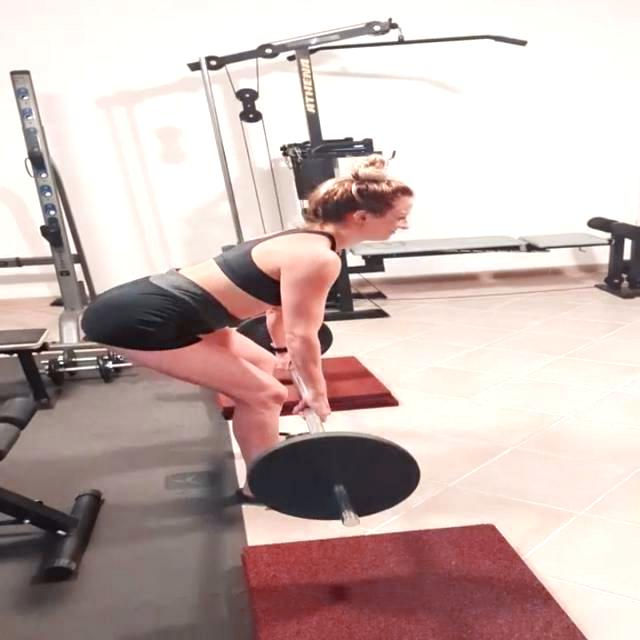barbell: (246, 429, 429, 532)
